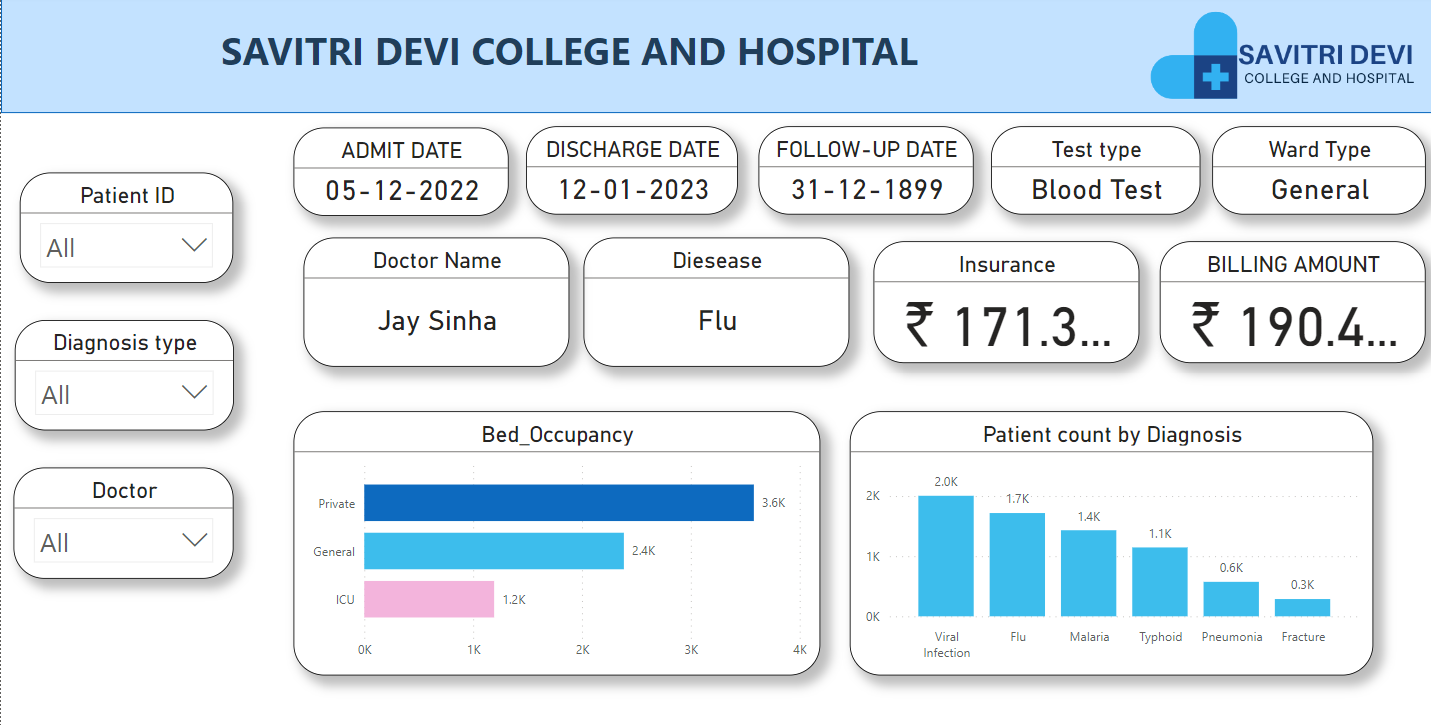

This screenshot's page, from the dashboard's own definition file:
{"tool":"powerbi","page":{"name":"Page 1","canvas":[1400,720],"ordinal":0},"visuals":[{"type":"image","box":[1113.7,0,279.7,114.3],"z":0},{"type":"textbox","box":[209.9,23.3,790.4,90.6],"z":1},{"type":"slicer","title":"Patient  ID","fields":{"Values":["Sheet1.Patient_ID"]},"box":[18.4,173.4,208.8,107.7],"z":2},{"type":"card","title":"ADMIT DATE","fields":{"Values":["Min(Sheet1.Admit_Date)"]},"box":[286.3,130,210.1,86.7],"z":3},{"type":"card","title":"DISCHARGE DATE","fields":{"Values":["Min(Sheet1.Discharge_Date)"]},"box":[513.5,128.7,207.5,86.7],"z":4},{"type":"card","title":"FOLLOW-UP DATE","fields":{"Values":["Min(Sheet1.Followup Date)"]},"box":[740.7,128.7,210.1,86.7],"z":5},{"type":"card","title":"BILLING AMOUNT","fields":{"Values":["Sum(Sheet1.Billing Amount)"]},"box":[1133.4,240.3,260,119.5],"z":6},{"type":"barChart","title":"Bed_Occupancy","fields":{"Category":["Sheet1.Bed_Occupancy"],"Y":["CountNonNull(Sheet1.Bed_Occupancy)"]},"box":[286.3,407.1,514.8,258.7],"z":7},{"type":"shape","box":[0,1.3,1400,114.3],"z":9},{"type":"card","title":"Test type","fields":{"Values":["Min(Sheet1.Test)"]},"box":[967.9,128.7,204.9,86.7],"z":10},{"type":"card","title":"Diesease","fields":{"Values":["Min(Sheet1.Diagnosis)"]},"box":[570,237.7,260,126.1],"z":11},{"type":"card","title":"Doctor Name","fields":{"Values":["Min(Sheet1.Doctor)"]},"box":[295.5,237.7,260,126.1],"z":12},{"type":"card","title":"Insurance","fields":{"Values":["Sum(Sheet1.Health Insurance Amount)"]},"box":[853.7,240.3,260,119.5],"z":13},{"type":"card","title":"Ward Type","fields":{"Values":["Min(Sheet1.Bed_Occupancy)"]},"box":[1184.6,128.7,208.8,86.7],"z":14},{"type":"slicer","title":"Diagnosis type","fields":{"Values":["Sheet1.Diagnosis"]},"box":[13.1,317.8,214.1,107.7],"z":15},{"type":"slicer","title":"Doctor","fields":{"Values":["Sheet1.Doctor"]},"box":[11.8,462.3,215.4,109],"z":16},{"type":"clusteredColumnChart","title":"Patient count by Diagnosis","fields":{"Category":["Sheet1.Diagnosis"],"Y":["CountNonNull(Sheet1.Patient_ID)"]},"box":[830,407.1,512.2,258.7],"z":17}]}

Visuals, with their boxes in screenshot pixels (x1, y1, x2, y2), scaled from the page's 1400x720 canvas onto the 1431x725 screenshot:
image: [left=1138, top=0, right=1424, bottom=115]
textbox: [left=215, top=23, right=1022, bottom=115]
"Patient  ID" slicer: [left=19, top=175, right=232, bottom=283]
"ADMIT DATE" card: [left=293, top=131, right=507, bottom=218]
"DISCHARGE DATE" card: [left=525, top=130, right=737, bottom=217]
"FOLLOW-UP DATE" card: [left=757, top=130, right=972, bottom=217]
"BILLING AMOUNT" card: [left=1158, top=242, right=1424, bottom=362]
"Bed_Occupancy" barChart: [left=293, top=410, right=819, bottom=670]
shape: [left=0, top=1, right=1430, bottom=116]
"Test type" card: [left=989, top=130, right=1199, bottom=217]
"Diesease" card: [left=583, top=239, right=848, bottom=366]
"Doctor Name" card: [left=302, top=239, right=568, bottom=366]
"Insurance" card: [left=873, top=242, right=1138, bottom=362]
"Ward Type" card: [left=1211, top=130, right=1424, bottom=217]
"Diagnosis type" slicer: [left=13, top=320, right=232, bottom=428]
"Doctor" slicer: [left=12, top=466, right=232, bottom=575]
"Patient count by Diagnosis" clusteredColumnChart: [left=848, top=410, right=1372, bottom=670]
